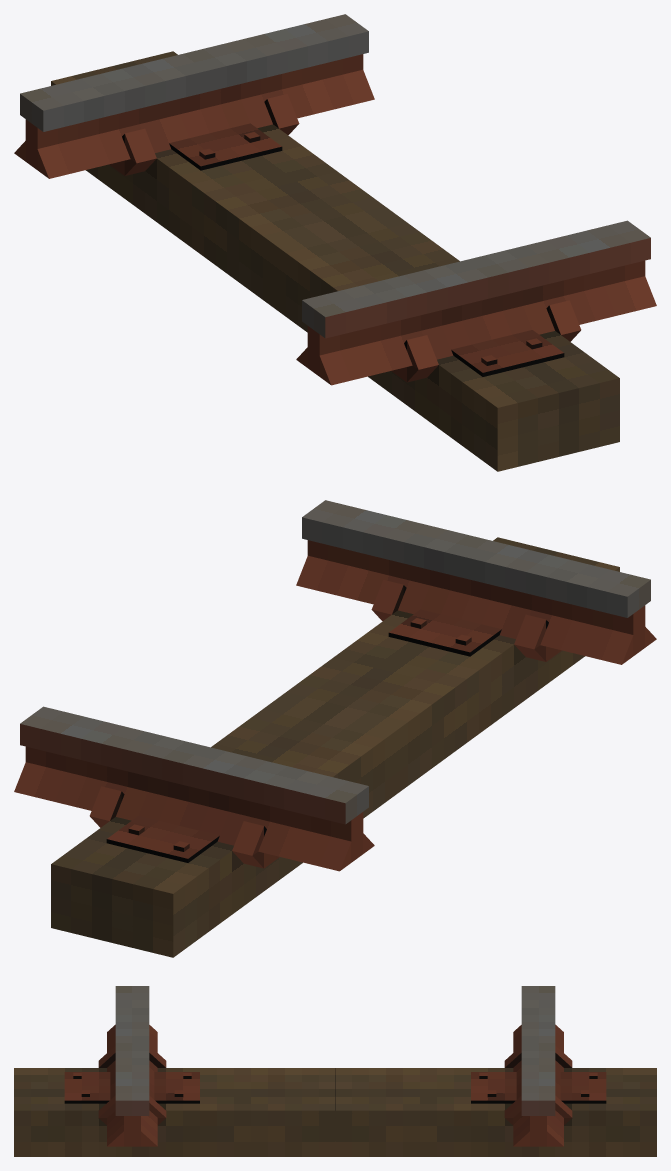
The model's file is texel_sg.obj.
The picture shows the model from 3 angles, top to bottom: view 1: azimuth 30°, elevation 25°; view 2: azimuth 150°, elevation 25°; view 3: azimuth 270°, elevation 25°; orthographic projection. The views are drawn at different scales.
Visible parts, largest first — view 1: RAIL_BASE_Cube_Cube.002, RAIL_LEFT_Cube_Cube.002_RAIL_LEFT_Cube_Cube.001, RAIL_RIGHT_Cube_Cube.003_RAIL_RIGHT_Cube_Cube.001; view 2: RAIL_BASE_Cube_Cube.002, RAIL_RIGHT_Cube_Cube.003_RAIL_RIGHT_Cube_Cube.001, RAIL_LEFT_Cube_Cube.002_RAIL_LEFT_Cube_Cube.001; view 3: RAIL_BASE_Cube_Cube.002, RAIL_LEFT_Cube_Cube.002_RAIL_LEFT_Cube_Cube.001, RAIL_RIGHT_Cube_Cube.003_RAIL_RIGHT_Cube_Cube.001.
Part boxes in pixels (left/top/right/bottom): RAIL_BASE_Cube_Cube.002: left=51, top=51, right=619, bottom=471; RAIL_LEFT_Cube_Cube.002_RAIL_LEFT_Cube_Cube.001: left=296, top=220, right=656, bottom=385; RAIL_RIGHT_Cube_Cube.003_RAIL_RIGHT_Cube_Cube.001: left=14, top=14, right=374, bottom=178; RAIL_BASE_Cube_Cube.002: left=51, top=537, right=619, bottom=957; RAIL_RIGHT_Cube_Cube.003_RAIL_RIGHT_Cube_Cube.001: left=14, top=706, right=374, bottom=871; RAIL_LEFT_Cube_Cube.002_RAIL_LEFT_Cube_Cube.001: left=296, top=500, right=656, bottom=664; RAIL_BASE_Cube_Cube.002: left=14, top=1045, right=656, bottom=1156; RAIL_LEFT_Cube_Cube.002_RAIL_LEFT_Cube_Cube.001: left=107, top=986, right=157, bottom=1146; RAIL_RIGHT_Cube_Cube.003_RAIL_RIGHT_Cube_Cube.001: left=513, top=986, right=563, bottom=1146.
Bounding box in the file's own units: 1 × 0.375 × 2.38.
Materials: 1 (1 with a texture image).
